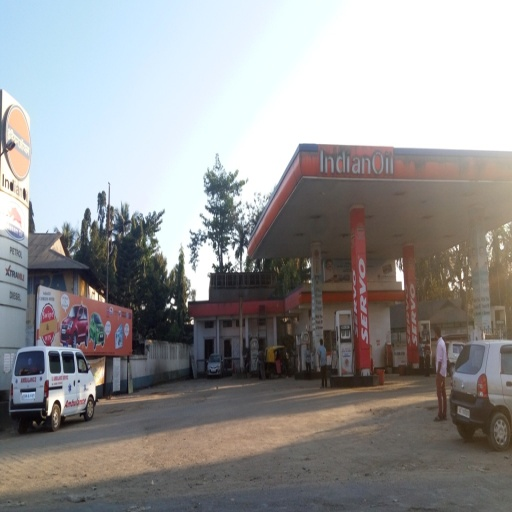roof: (242, 142, 512, 268)
